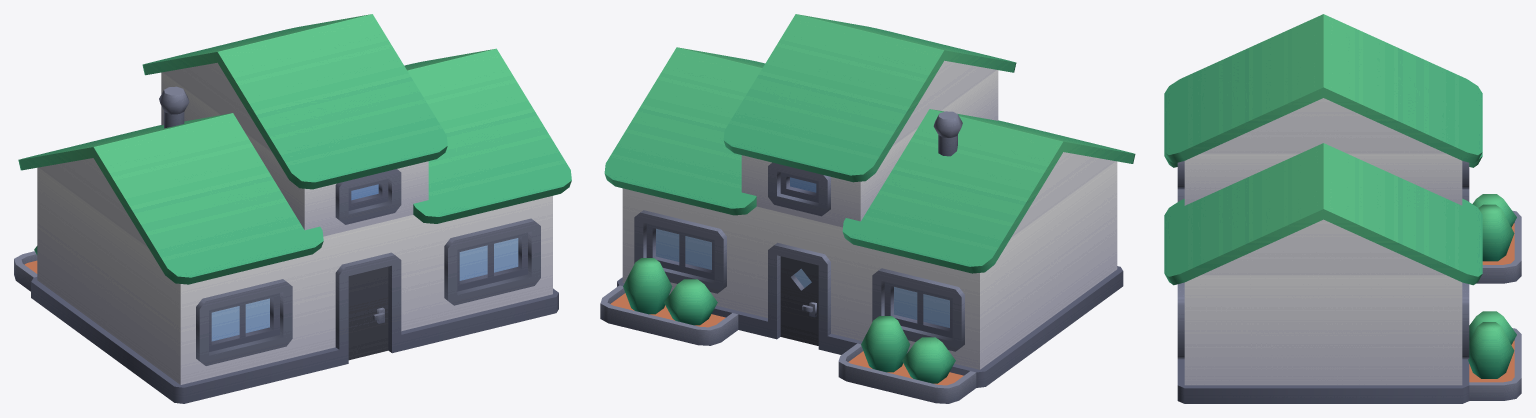
Rendered from house.glb.
The picture shows the model from 3 angles, left to right: view 1: azimuth 30°, elevation 25°; view 2: azimuth 150°, elevation 25°; view 3: azimuth 270°, elevation 25°; orthographic projection. The views are drawn at different scales.
Parts seen in each view (by area): view 1: building-type-a; view 2: building-type-a; view 3: building-type-a.
Boxes of the visible parts, bbox=[...] form: building-type-a: bbox=[14, 14, 571, 403]; building-type-a: bbox=[600, 14, 1135, 403]; building-type-a: bbox=[1164, 14, 1521, 403].
Bounding box in the file's own units: 1.3 × 0.8335 × 1.03.
1 material, 1 textured.
